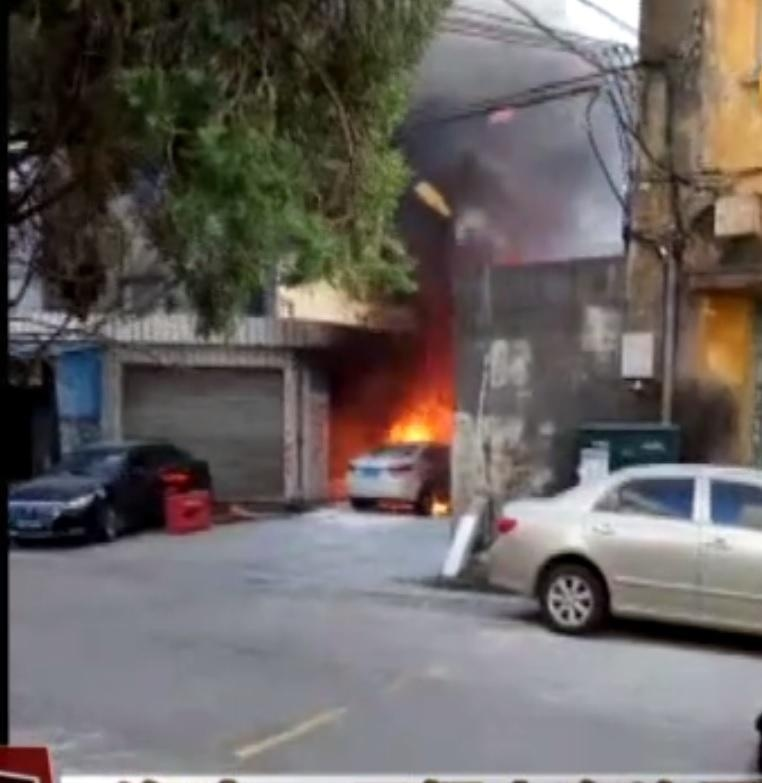fire: (362, 356, 459, 482)
